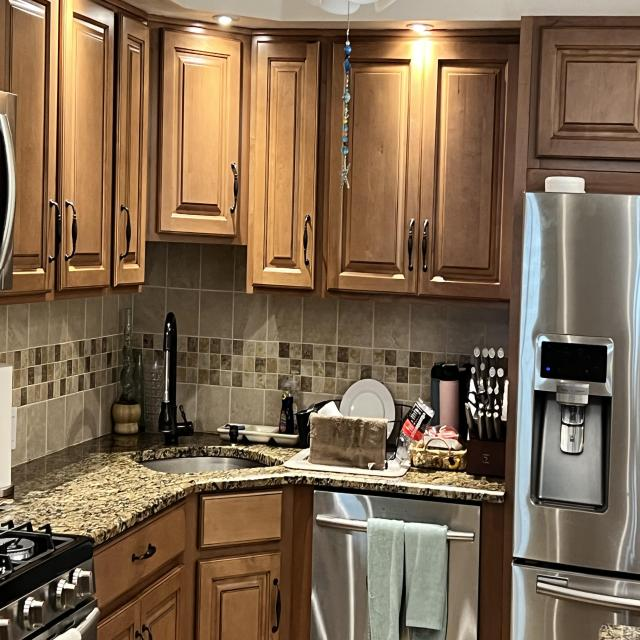Appliance_Dishwasher: (310, 489, 495, 640)
Appliance_Fridge: (510, 193, 640, 640)
Appliance_Microwave: (0, 93, 17, 294)
Appliance_Oven: (0, 522, 100, 640)
Appliance_Sink: (158, 312, 193, 436), (141, 457, 263, 474)
Cabinet_Flat: (93, 487, 292, 617)
Cabinet_Raised_Panel: (0, 0, 640, 303), (96, 541, 282, 640)
Countertop_Granite: (0, 445, 504, 542)
